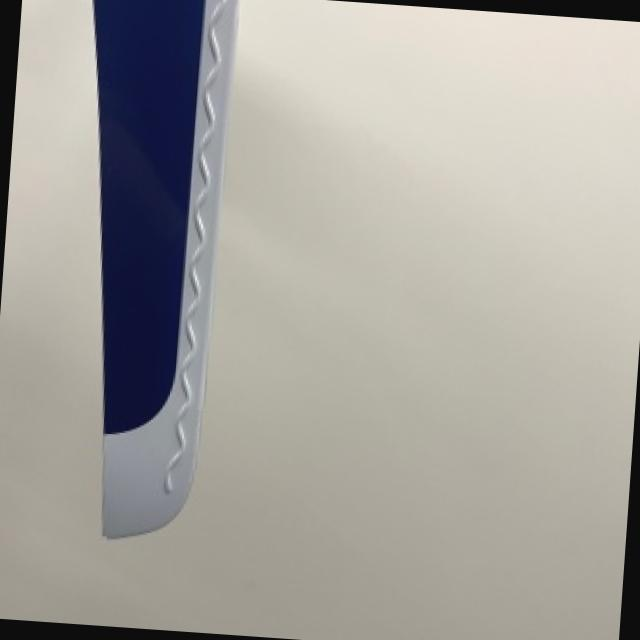healthy: (96, 0, 240, 535)
